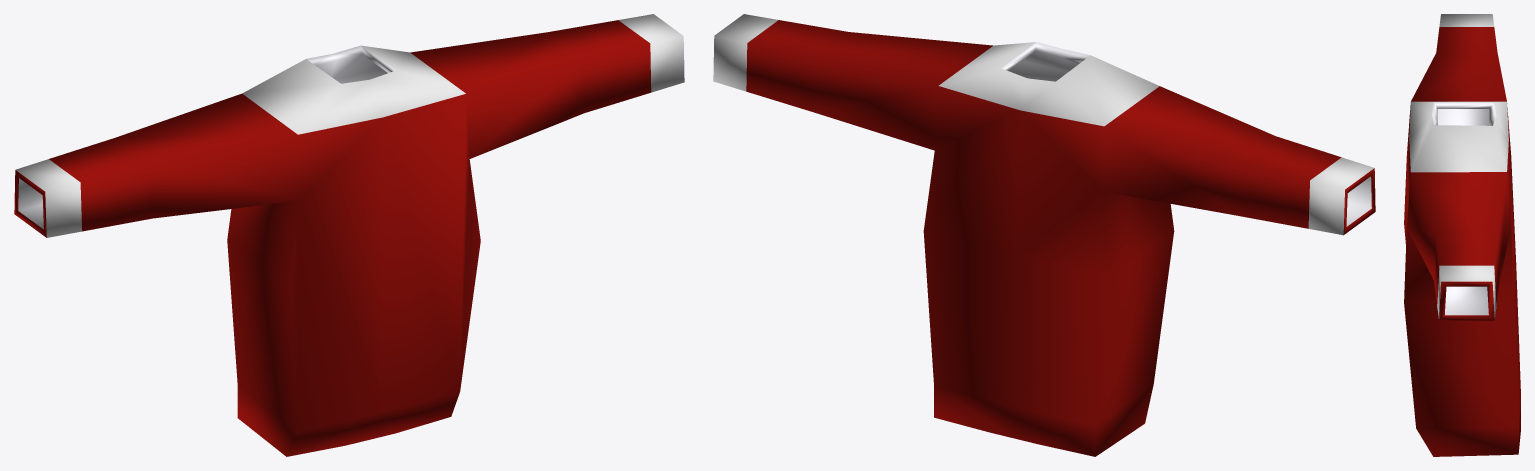
File: LastKnownSurvivorRagdollClothingTest.fbx
3 views of the same model, side by side, from view 1: azimuth 30°, elevation 25°; view 2: azimuth 150°, elevation 25°; view 3: azimuth 270°, elevation 25° (orthographic). The views are drawn at different scales.
Parts seen in each view (by area): view 1: Cube.001; view 2: Cube.001; view 3: Cube.001.
Boxes of the visible parts, x1,y1,x2,y2 form: Cube.001: [14, 14, 684, 456]; Cube.001: [713, 14, 1375, 456]; Cube.001: [1404, 14, 1520, 456].
Bounding box in the file's own units: 601 × 325 × 111.
